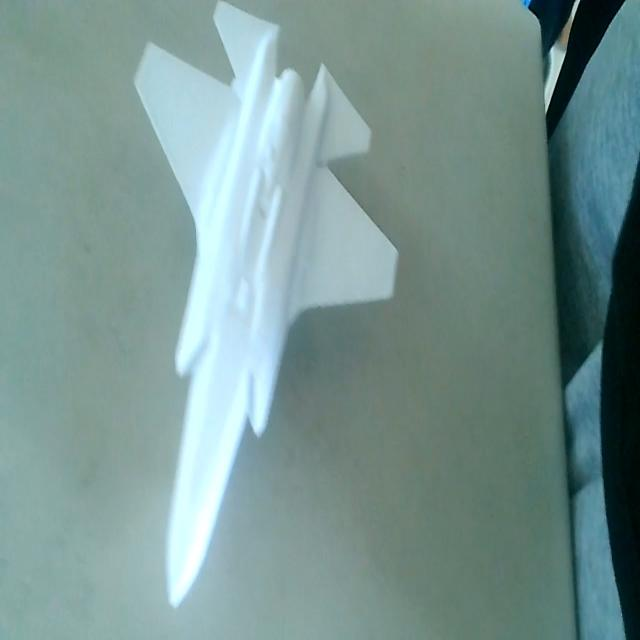Jet: (127, 0, 399, 629)
